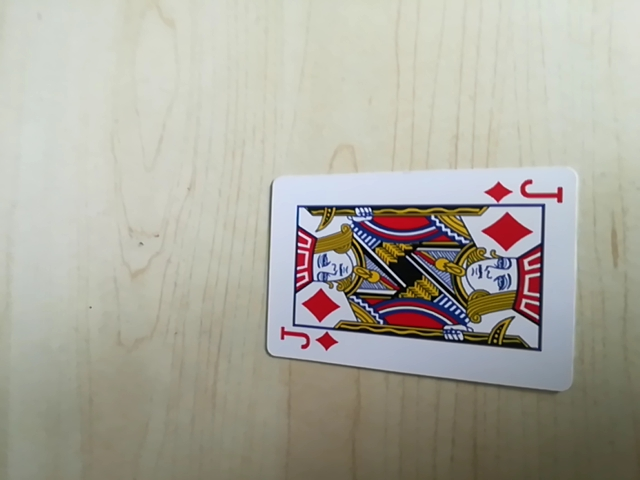fk j: (484, 175, 568, 206), (275, 327, 337, 357)
